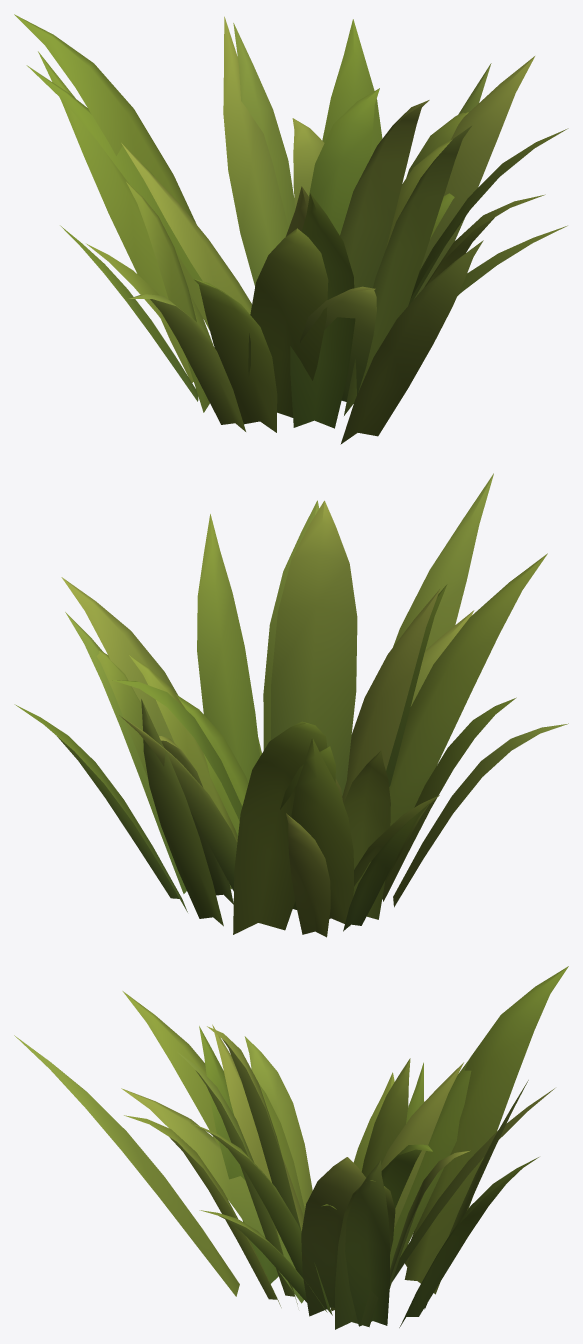
The model's file is grass_dense.glb.
3 views of the same model, one above another, from view 1: azimuth 30°, elevation 25°; view 2: azimuth 150°, elevation 25°; view 3: azimuth 270°, elevation 25° (orthographic). The views are drawn at different scales.
Visible parts, largest first — view 1: Plant; view 2: Plant; view 3: Plant.
Part boxes in pixels (left/top/right/bottom): Plant: left=14, top=14, right=568, bottom=444; Plant: left=14, top=473, right=568, bottom=937; Plant: left=14, top=966, right=568, bottom=1329.
Bounding box in the file's own units: 0.6398 × 0.4475 × 0.7874.
